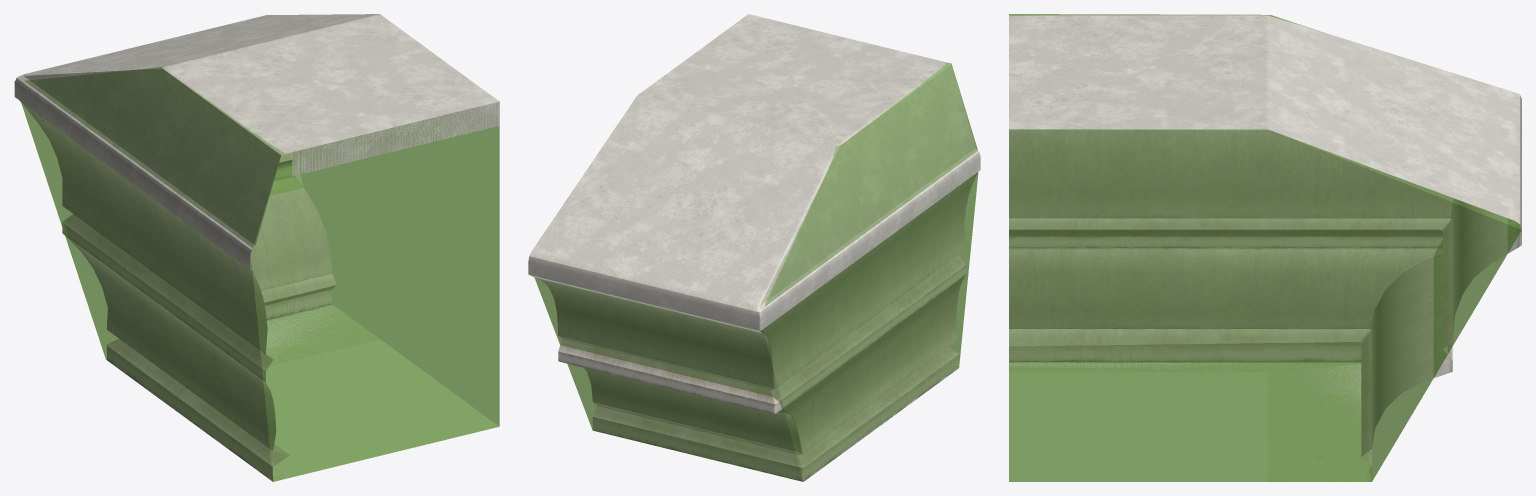
File: F2_md_Roof_end_01_m.fbx
The picture shows the model from 3 angles, left to right: view 1: azimuth 30°, elevation 25°; view 2: azimuth 150°, elevation 25°; view 3: azimuth 270°, elevation 25°; orthographic projection. The views are drawn at different scales.
Parts seen in each view (by area): view 1: F2_md_roof_end_01_m_col_01, F2_md_roof_end_01_m_LOD0; view 2: F2_md_roof_end_01_m_LOD0, F2_md_roof_end_01_m_col_01; view 3: F2_md_roof_end_01_m_LOD0, F2_md_roof_end_01_m_col_01.
Boxes of the visible parts, bbox=[...] form: F2_md_roof_end_01_m_col_01: bbox=[21, 66, 499, 481]; F2_md_roof_end_01_m_LOD0: bbox=[14, 14, 499, 481]; F2_md_roof_end_01_m_LOD0: bbox=[528, 14, 980, 481]; F2_md_roof_end_01_m_col_01: bbox=[534, 63, 978, 481]; F2_md_roof_end_01_m_LOD0: bbox=[1009, 14, 1521, 481]; F2_md_roof_end_01_m_col_01: bbox=[1009, 14, 1521, 481].
Size of what is drawn, in the model's own units: 121 by 150 by 198.
